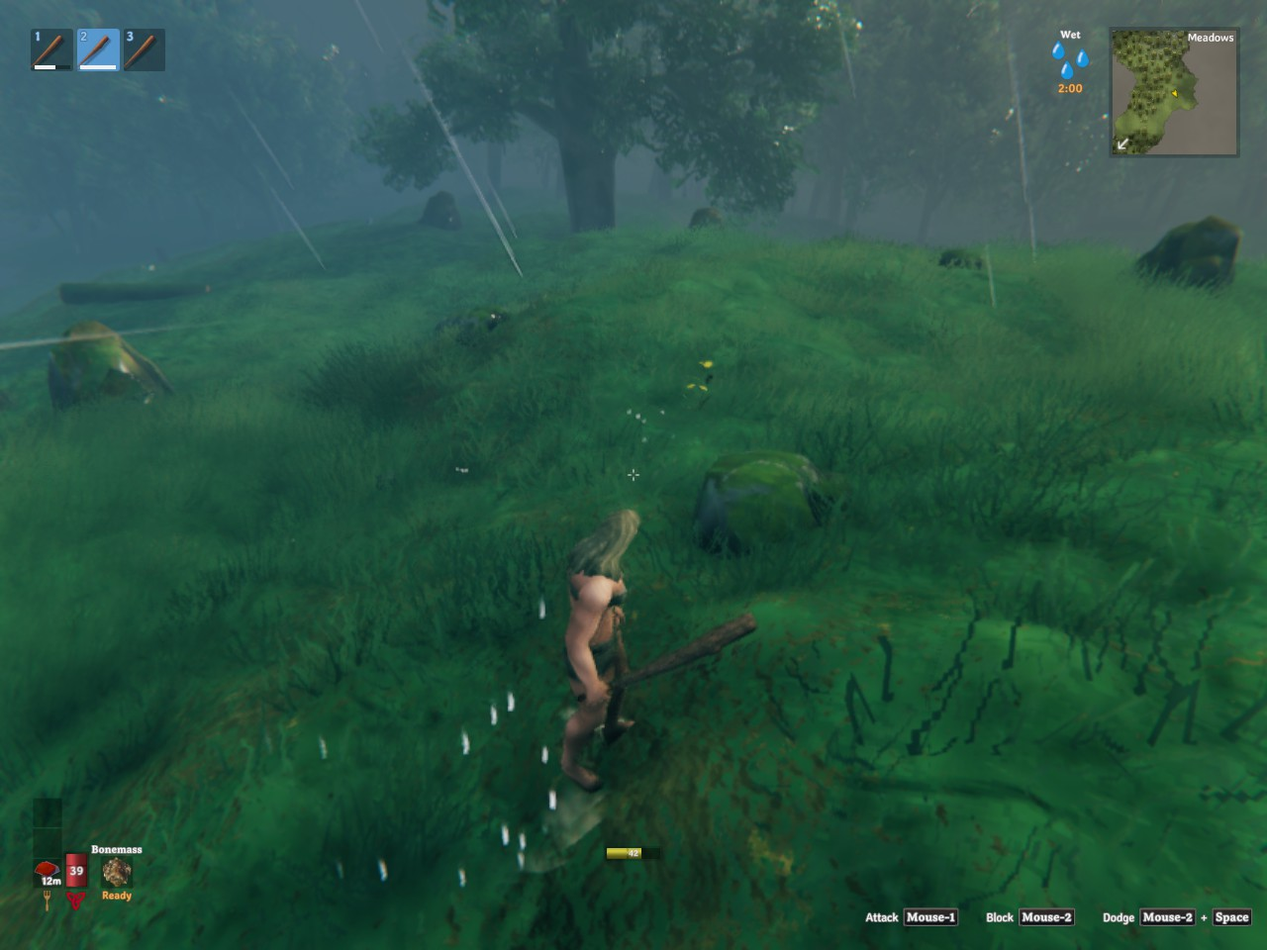Food Indicator: (36, 797, 63, 891)
Health Bar: (63, 820, 90, 891)
Hotbar: (24, 21, 195, 80)
Stamina Bar: (601, 841, 662, 865)
Status Indicator: (1024, 22, 1111, 100)
